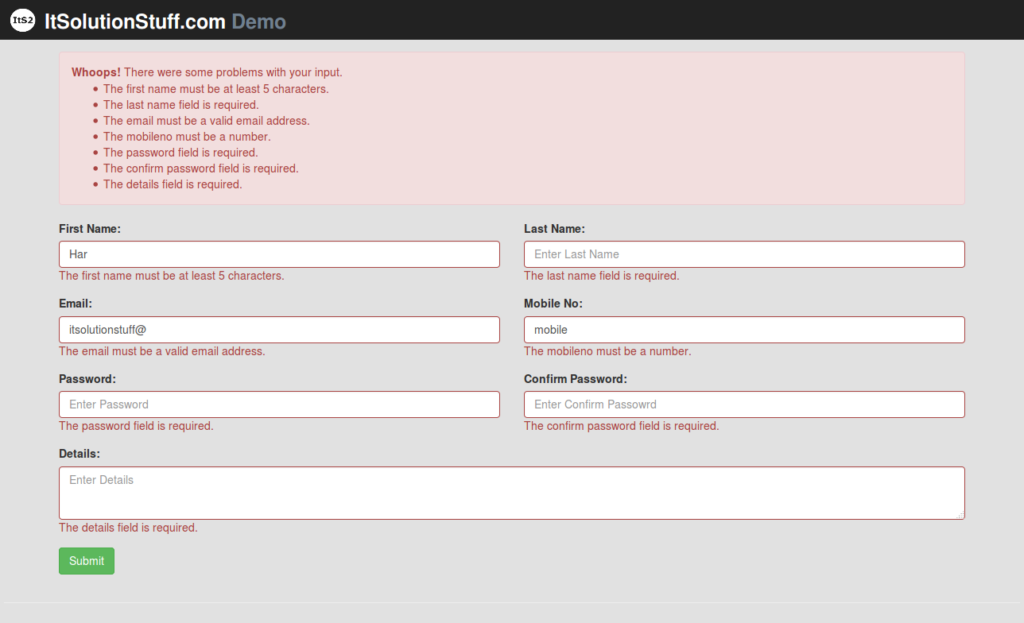error_field: (58, 465, 966, 522), (522, 238, 966, 269), (58, 389, 501, 419), (523, 314, 966, 344), (522, 390, 968, 419), (57, 240, 501, 269), (58, 316, 501, 343)
error_message: (70, 66, 344, 190), (58, 342, 268, 358), (59, 268, 284, 282), (525, 419, 719, 433), (55, 416, 214, 432), (522, 343, 690, 358), (523, 268, 679, 283), (56, 521, 197, 534)
